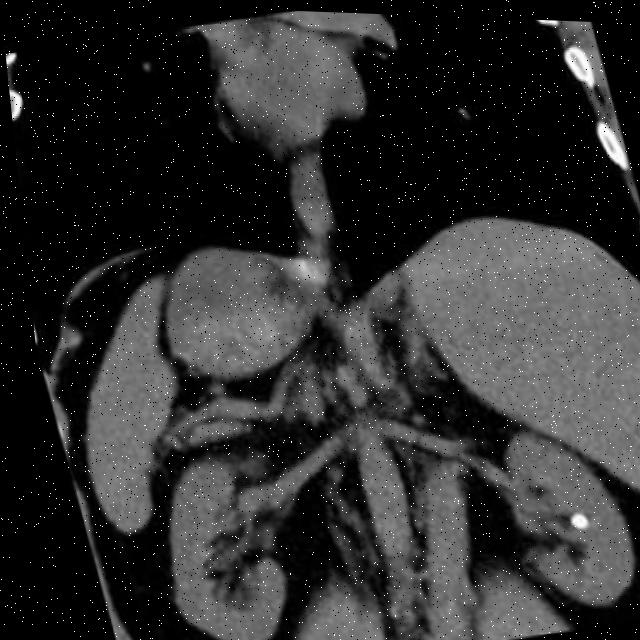Tas_Var: (550, 497, 583, 535)
